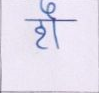ai_matra: (39, 0, 59, 19)
